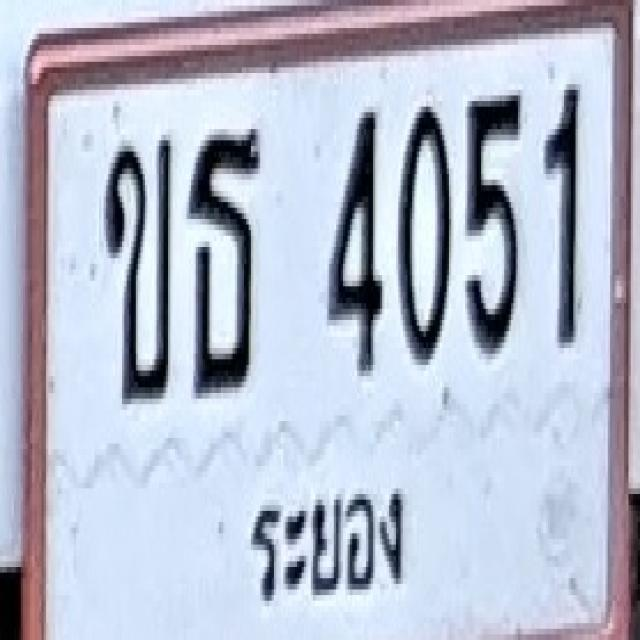-: (187, 123, 260, 393), (102, 135, 172, 404)
0: (397, 101, 450, 365)
1: (543, 82, 580, 346)
4: (327, 104, 382, 373)
5: (465, 90, 520, 354)
RYG: (239, 470, 421, 618)
